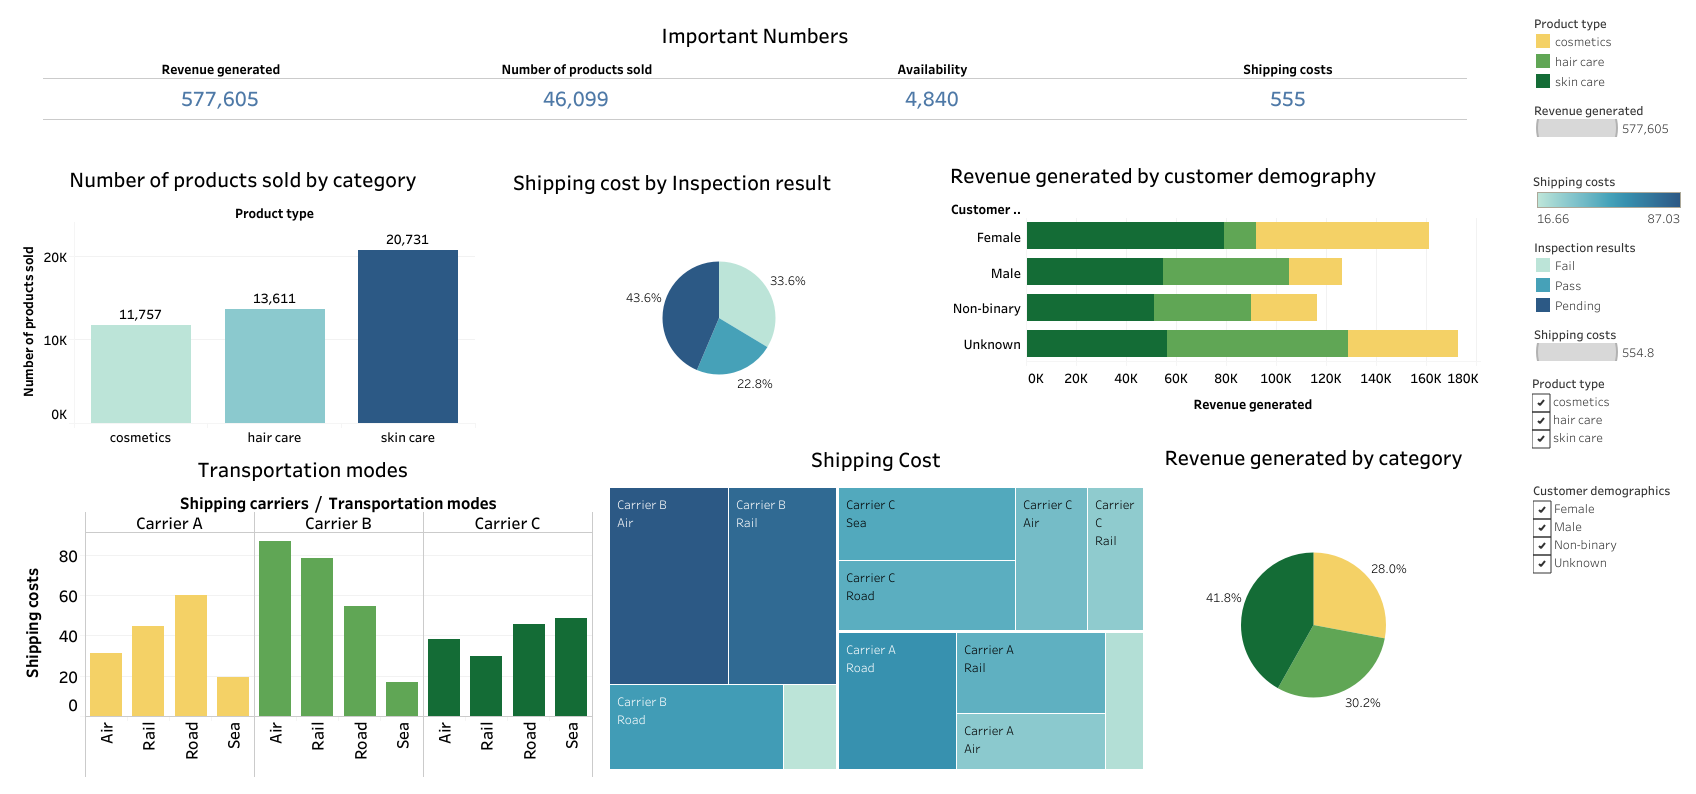

What the dashboard file says about the page in this screenshot:
{"tool":"tableau","page":{"name":"Dashboard 1","canvas":[1000,1000],"units":"permille","ordinal":0},"visuals":[{"type":"legend","title":"Sheet 2","param":"[federated.1kl237q0ybaoml14ewrrh1xwrmt8].[none:Product type:nk]","box":[901,10.1,94.3,109.4]},{"type":"worksheet","title":"Sheet 3","mark":"Automatic","box":[25.1,18.9,839.7,132.1]},{"type":"legend","title":"Sheet 2","param":"[federated.1kl237q0ybaoml14ewrrh1xwrmt8].[sum:Revenue generated:qk]","box":[901,119.5,94.3,59.1]},{"type":"legend","title":"Sheet 6","param":"[federated.1kl237q0ybaoml14ewrrh1xwrmt8].[sum:Shipping costs:qk]","box":[901,178.6,94.3,27.7]},{"type":"worksheet","title":"Sheet 5","mark":"Automatic","rows":["Customer demographics"],"cols":["Revenue generated"],"box":[557.6,195,314.2,333.3]},{"type":"worksheet","title":"Sheet 1","mark":"Automatic","rows":["Number of products sold"],"cols":["Product type"],"box":[6.4,200,273.4,361]},{"type":"worksheet","title":"Sheet 7","mark":"Pie","box":[299.9,203.8,247.7,338.4]},{"type":"legend","title":"Sheet 6","param":"[federated.1kl237q0ybaoml14ewrrh1xwrmt8].[sum:Shipping costs:qk]","box":[901,206.3,94.3,85.5]},{"type":"legend","title":"Sheet 7","param":"[federated.1kl237q0ybaoml14ewrrh1xwrmt8].[none:Inspection results:nk]","box":[901,291.8,94.3,109.4]},{"type":"legend","title":"Sheet 7","param":"[federated.1kl237q0ybaoml14ewrrh1xwrmt8].[sum:Shipping costs:qk]","box":[901,401.2,94.3,59.1]},{"type":"filter","title":"Sheet 1","param":"[federated.1kl237q0ybaoml14ewrrh1xwrmt8].[none:Product type:nk]","box":[902.8,469.2,82.5,124.5]},{"type":"worksheet","title":"Sheet 2","mark":"Pie","box":[678.6,549.7,190.4,418.9]},{"type":"worksheet","title":"Sheet 6","mark":"Automatic","box":[355.8,552.2,320.7,422.6]},{"type":"worksheet","title":"Sheet 4","mark":"Automatic","rows":["Shipping costs"],"cols":["Shipping carriers","Transportation modes"],"box":[7.9,564.8,341.4,412.6]},{"type":"filter","title":"Sheet 5","param":"[federated.1kl237q0ybaoml14ewrrh1xwrmt8].[none:Customer demographics:nk]","box":[903.4,603.8,81.3,147.2]}]}

Visuals, with their boxes on the dashboard's canvas, which has no fixed pixel size, in thousandths of its width and height (x1, y1, x2, y2). These are canvas units, not pixel positions in the 1696x794 screenshot, which may show the page scaled, cropped or inside an application window:
"Sheet 2" legend: x1=901 y1=10 x2=995 y2=120
"Sheet 3" worksheet: x1=25 y1=19 x2=865 y2=151
"Sheet 2" legend: x1=901 y1=120 x2=995 y2=179
"Sheet 6" legend: x1=901 y1=179 x2=995 y2=206
"Sheet 5" worksheet: x1=558 y1=195 x2=872 y2=528
"Sheet 1" worksheet: x1=6 y1=200 x2=280 y2=561
"Sheet 7" worksheet (Pie marks): x1=300 y1=204 x2=548 y2=542
"Sheet 6" legend: x1=901 y1=206 x2=995 y2=292
"Sheet 7" legend: x1=901 y1=292 x2=995 y2=401
"Sheet 7" legend: x1=901 y1=401 x2=995 y2=460
"Sheet 1" filter: x1=903 y1=469 x2=985 y2=594
"Sheet 2" worksheet (Pie marks): x1=679 y1=550 x2=869 y2=969
"Sheet 6" worksheet: x1=356 y1=552 x2=676 y2=975
"Sheet 4" worksheet: x1=8 y1=565 x2=349 y2=977
"Sheet 5" filter: x1=903 y1=604 x2=985 y2=751
